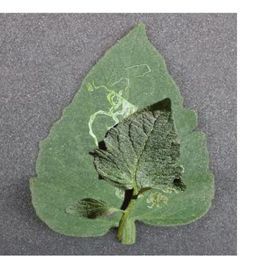liriomyza: (86, 76, 138, 147), (145, 190, 168, 209)
